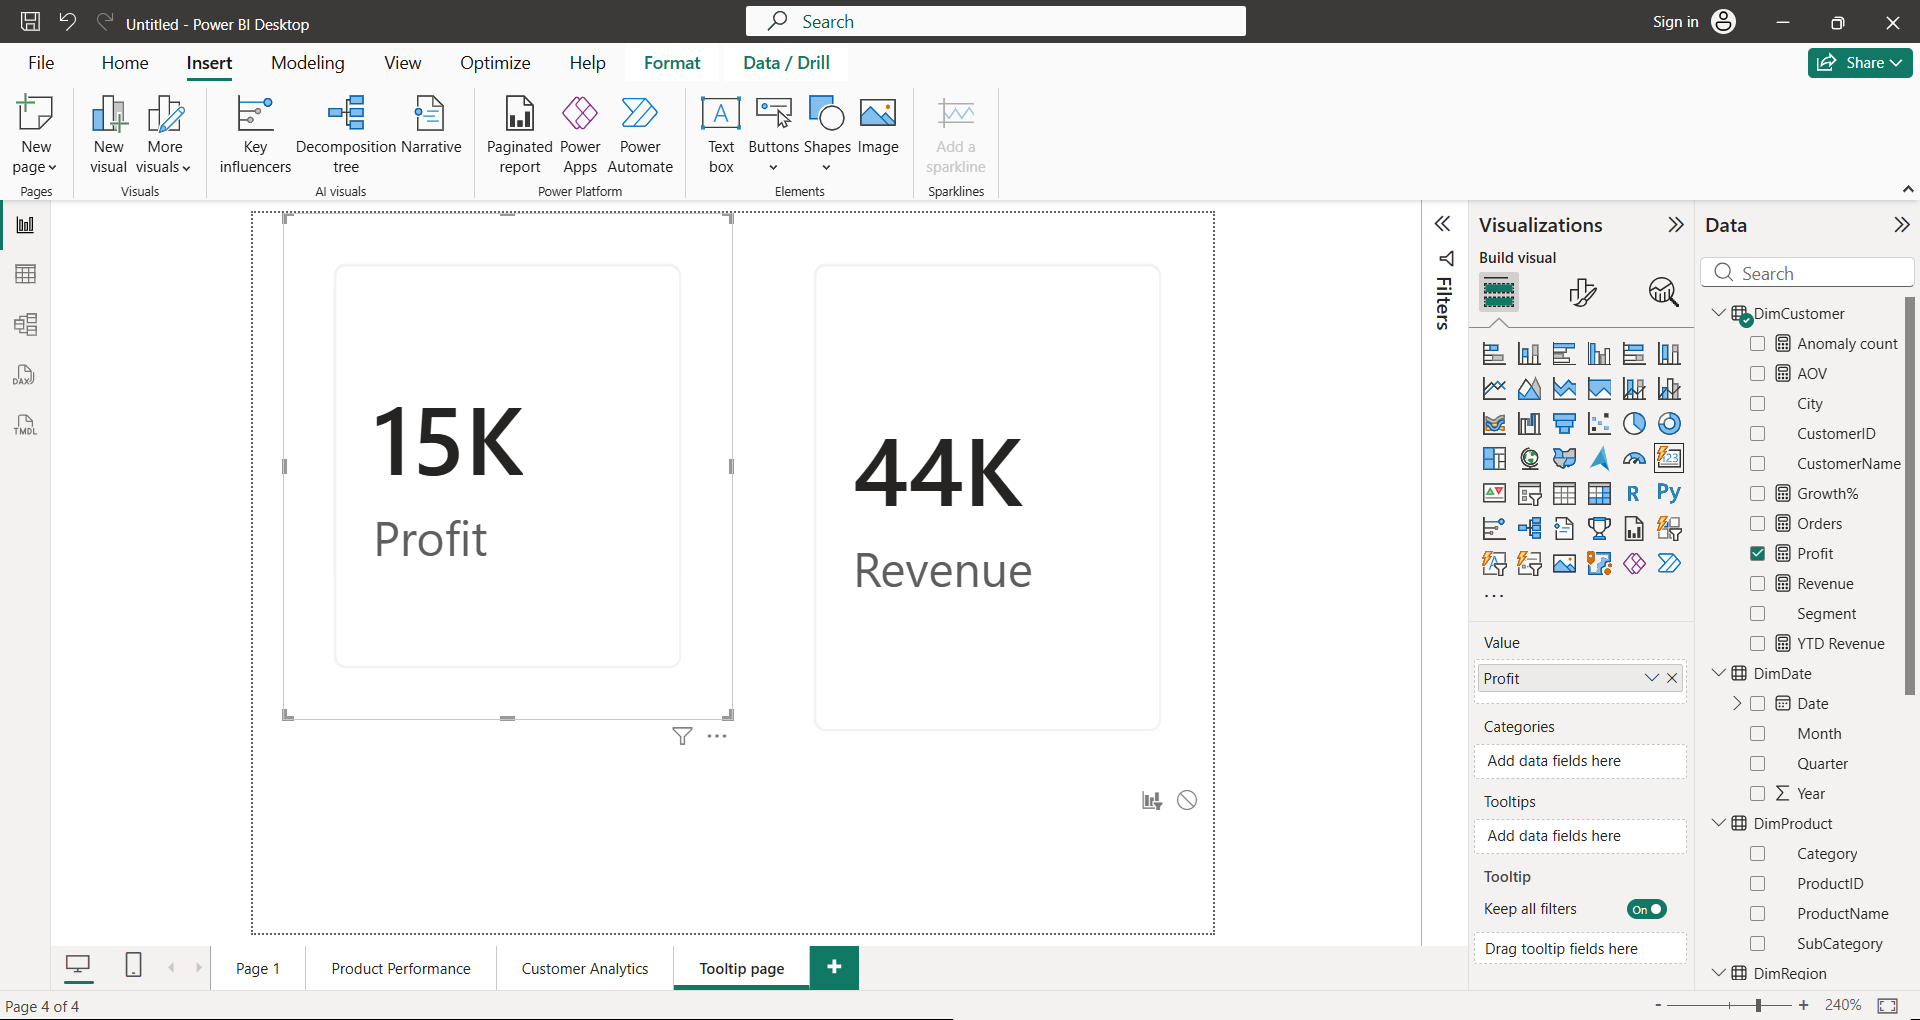

The page's visual inventory and layout, read from the dashboard file:
{"tool":"powerbi","page":{"name":"Tooltip page","canvas":[320,240],"ordinal":3},"visuals":[{"type":"cardVisual","fields":{"Data":["DimCustomer.Profit"]},"box":[10,0,150,169],"z":0},{"type":"cardVisual","fields":{"Data":["DimCustomer.Revenue"]},"box":[170,0,150,190],"z":1}]}

Visuals, with their boxes on the page's 320x240 design canvas (x1, y1, x2, y2). These are canvas units, not pixel positions in the 1920x1020 screenshot, which may show the page scaled, cropped or inside an application window:
cardVisual - DimCustomer.Profit: bbox=(10, 0, 160, 169)
cardVisual - DimCustomer.Revenue: bbox=(170, 0, 320, 190)
